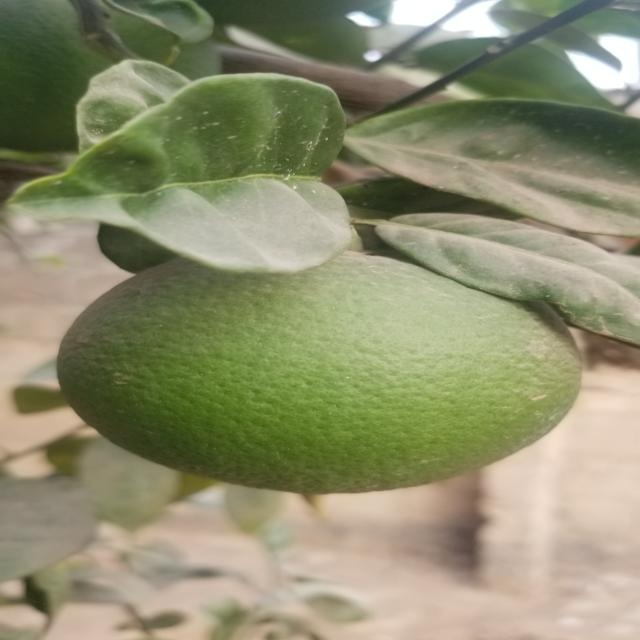agrume: (59, 255, 584, 493)
